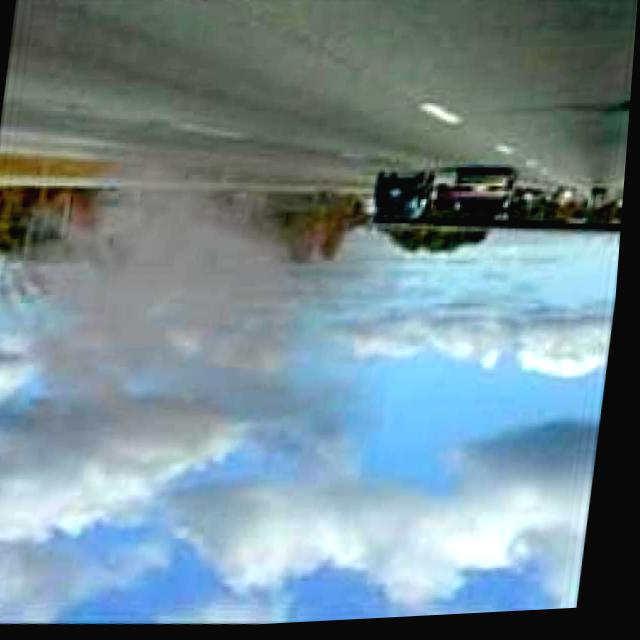no_helmet: (0, 79, 427, 500)
